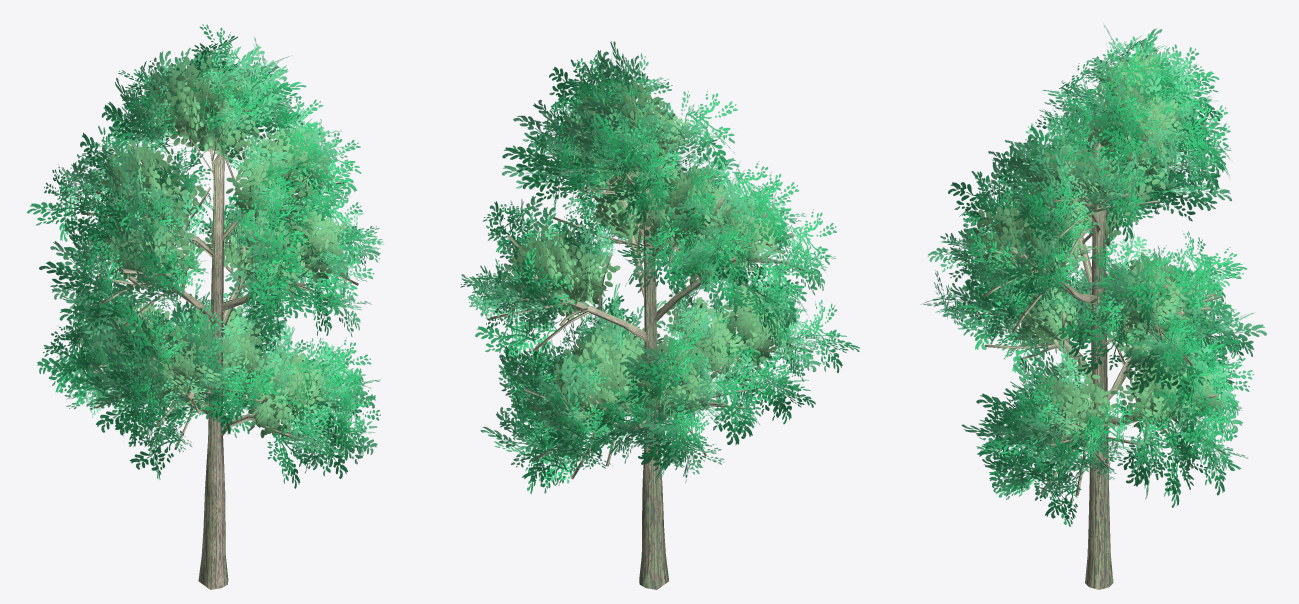
Rendered from jabami_anime_tree_v1.glb.
3 renders of one model, left to right at view 1: azimuth 30°, elevation 25°; view 2: azimuth 150°, elevation 25°; view 3: azimuth 270°, elevation 25°, orthographic. The views are drawn at different scales.
Visible parts, largest first — view 1: ..\..\users\hp-touch\documents\treeitsave\texture\tron_tree_ (×5); view 2: ..\..\users\hp-touch\documents\treeitsave\texture\tron_tree_ (×5); view 3: ..\..\users\hp-touch\documents\treeitsave\texture\tron_tree_ (×5).
Boxes of the visible parts, x1,y1,x2,y2 form: ..\..\users\hp-touch\documents\treeitsave\texture\tron_tree_ (×5): (27,24,383,589); ..\..\users\hp-touch\documents\treeitsave\texture\tron_tree_ (×5): (460,41,859,589); ..\..\users\hp-touch\documents\treeitsave\texture\tron_tree_ (×5): (921,25,1266,589).
Bounding box in the file's own units: 5.46 × 8.02 × 4.88.
5 materials, 5 textured.
